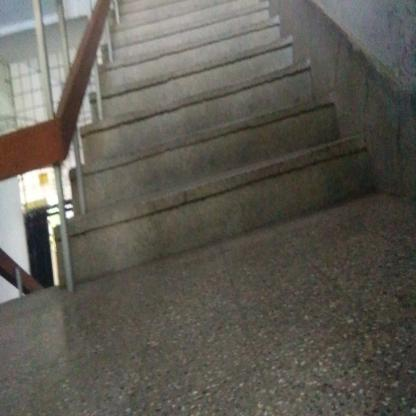stairs: (111, 74, 304, 272)
